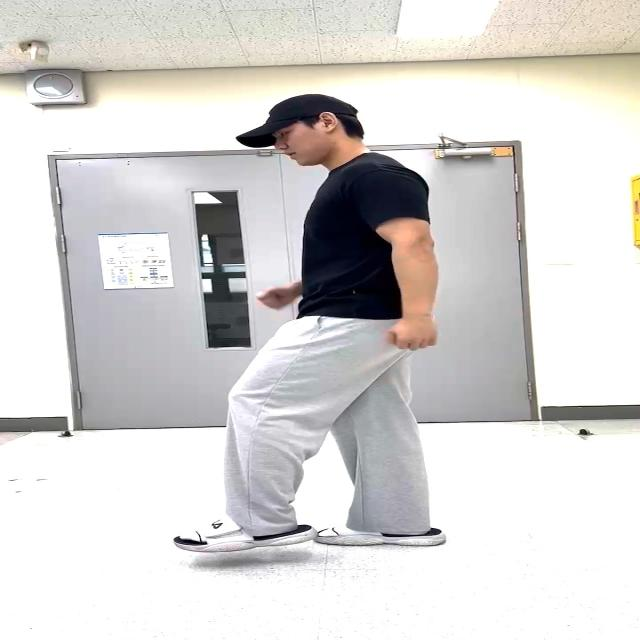leg: (147, 319, 335, 557)
